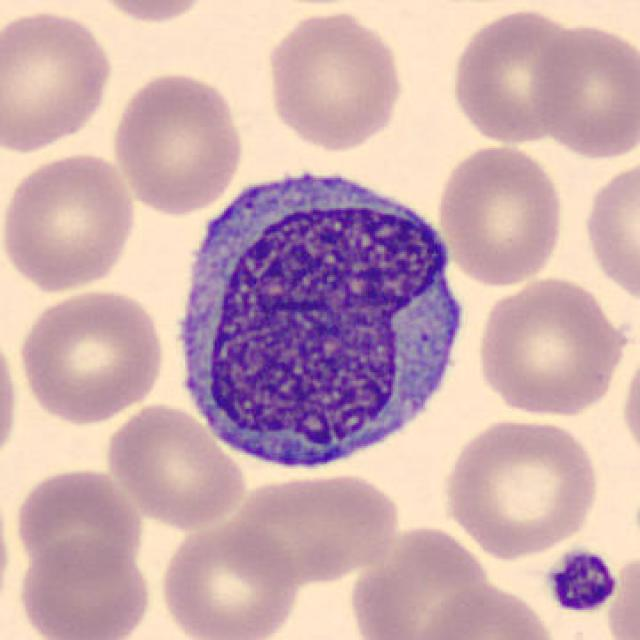Monocyte: (162, 152, 473, 483)
Platelets: (540, 545, 620, 615)
RBC: (438, 412, 604, 560), (471, 273, 631, 420), (14, 286, 169, 426), (261, 7, 407, 153), (224, 467, 404, 584), (0, 148, 139, 295), (109, 69, 247, 217), (434, 141, 567, 287), (101, 400, 249, 531), (446, 5, 582, 146), (154, 518, 300, 640), (0, 5, 117, 156), (347, 522, 496, 640), (10, 464, 146, 582), (528, 21, 638, 161), (14, 536, 155, 640), (412, 580, 562, 640), (580, 154, 638, 308), (602, 545, 640, 640), (0, 319, 23, 474), (81, 0, 218, 26), (618, 322, 640, 470)
